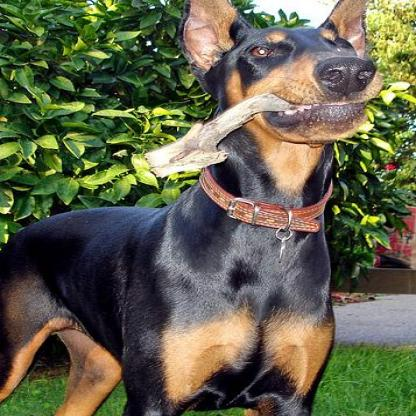Doberman: (0, 0, 383, 413)
